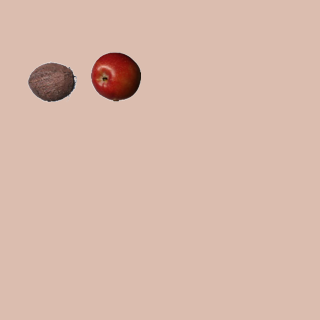Apple Braeburn: (90, 51, 140, 101)
Cocos: (26, 56, 76, 106)
